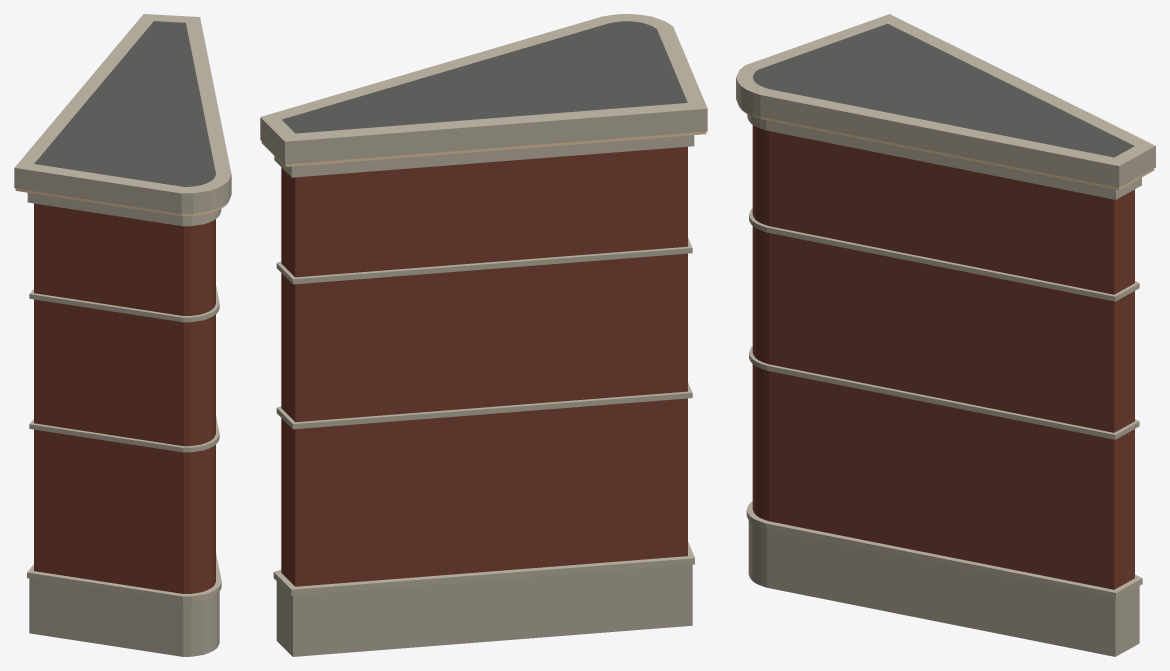
Rendered from flatiron-building-atlanta.glb.
The picture shows the model from 3 angles, left to right: view 1: azimuth 30°, elevation 25°; view 2: azimuth 150°, elevation 25°; view 3: azimuth 270°, elevation 25°; orthographic projection. The views are drawn at different scales.
Parts seen in each view (by area): view 1: lod0_bld_wall, lod0_bld_roof, lod1_lm_stone, lod0_lm_flood, lod0_lm_stone, lod0_lm_glow; view 2: lod0_bld_wall, lod1_lm_stone, lod0_lm_flood, lod0_bld_roof, lod0_lm_stone, lod0_lm_glow; view 3: lod0_bld_wall, lod1_lm_stone, lod0_lm_flood, lod0_bld_roof, lod0_lm_stone, lod0_lm_glow.
Boxes of the visible parts, x1,y1,x2,y2 form: lod0_bld_wall: (34, 203, 215, 593); lod0_bld_roof: (34, 21, 215, 186); lod1_lm_stone: (27, 21, 221, 656); lod0_lm_flood: (14, 14, 231, 226); lod0_lm_stone: (29, 286, 220, 656); lod0_lm_glow: (15, 188, 229, 216); lod0_bld_wall: (281, 146, 687, 586); lod1_lm_stone: (273, 21, 694, 656); lod0_lm_flood: (260, 14, 707, 177); lod0_bld_roof: (282, 21, 687, 133); lod0_lm_stone: (276, 238, 694, 656); lod0_lm_glow: (261, 131, 706, 166); lod0_bld_wall: (752, 125, 1134, 589); lod1_lm_stone: (746, 27, 1141, 656); lod0_lm_flood: (736, 14, 1155, 199); lod0_bld_roof: (752, 23, 1134, 157); lod0_lm_stone: (746, 208, 1142, 653); lod0_lm_glow: (738, 104, 1154, 190).
Size of the model in its own units: 33.08 by 50.4 by 38.55.
